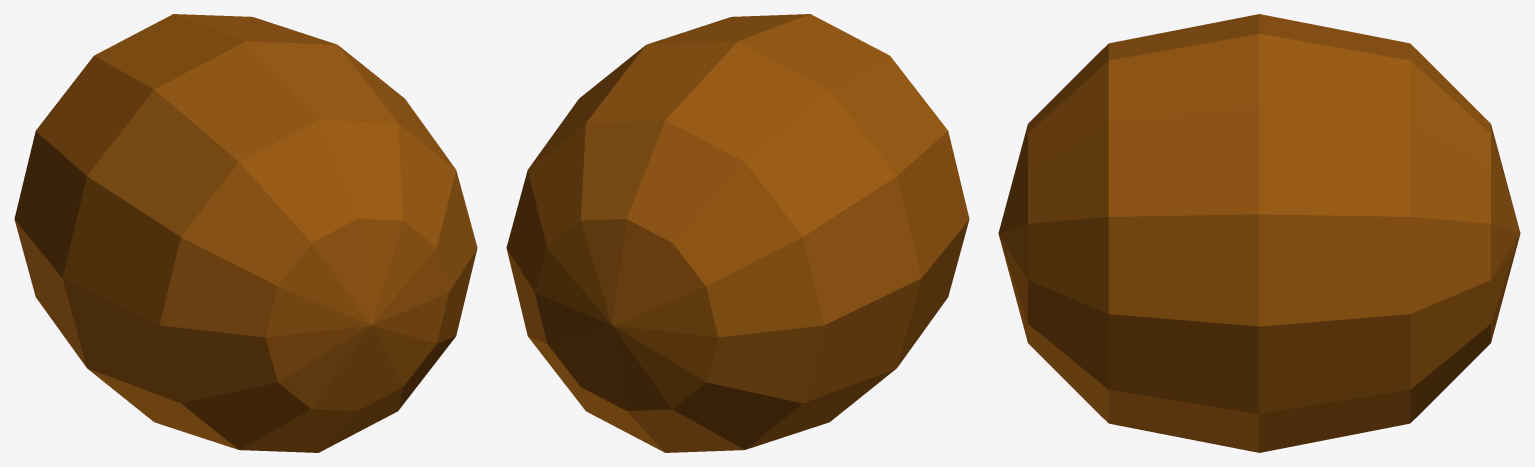
The model's file is Kiwi.fbx.
3 views of the same model, side by side, from view 1: azimuth 30°, elevation 25°; view 2: azimuth 150°, elevation 25°; view 3: azimuth 270°, elevation 25° (orthographic). The views are drawn at different scales.
Visible parts, largest first — view 1: Kiwi; view 2: Kiwi; view 3: Kiwi.
Part boxes in pixels (x1,y1,x2,y2): Kiwi: (14,14,477,452); Kiwi: (506,14,969,452); Kiwi: (998,14,1520,452).
Size of the model in its own units: 11.15 by 11.15 by 13.21.
